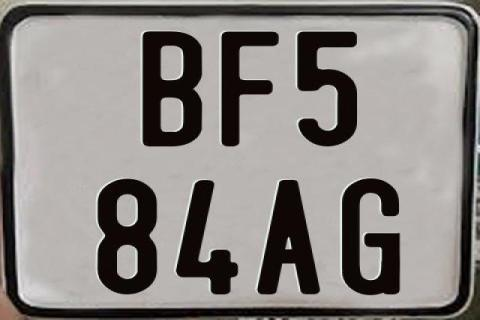0: (175, 179, 239, 297), (94, 178, 156, 298), (297, 29, 357, 148)
A: (257, 178, 325, 294)
B: (140, 29, 202, 147)
F: (221, 31, 282, 149)
G: (339, 177, 398, 295)
